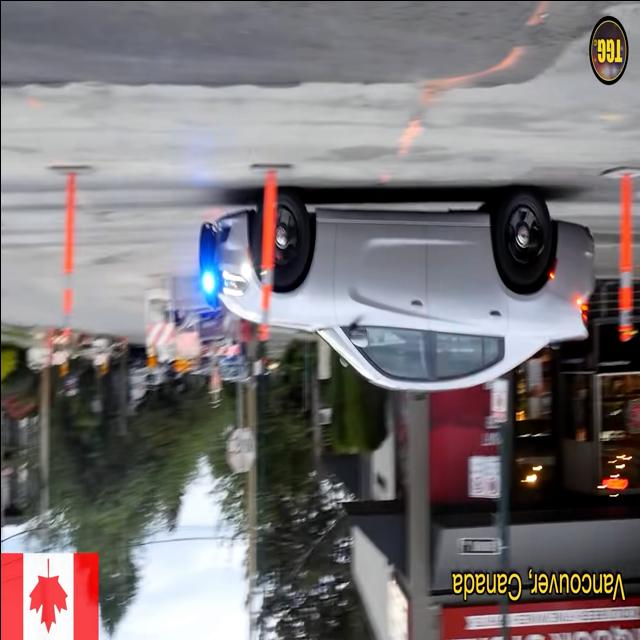emergency-vehicles: (190, 154, 604, 410)
